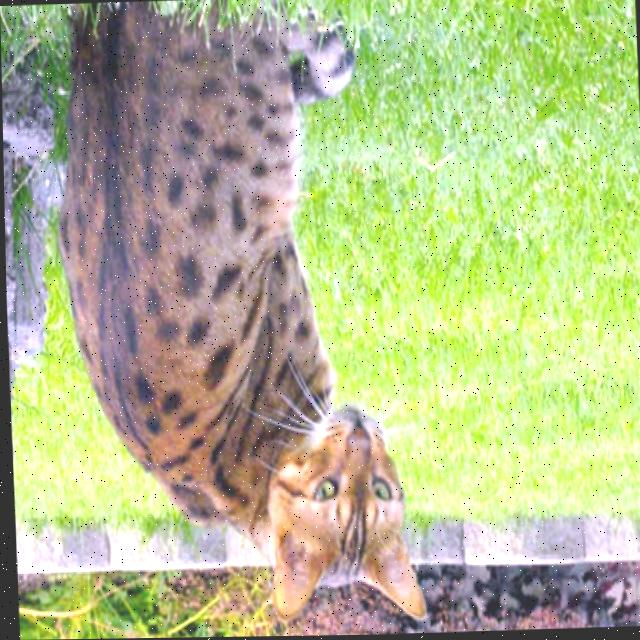Bengal: (43, 0, 433, 639)
